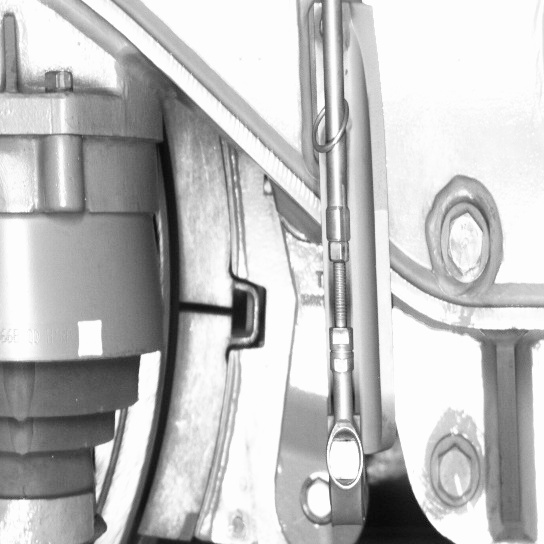KnifeSwitch: (116, 136, 257, 541)
